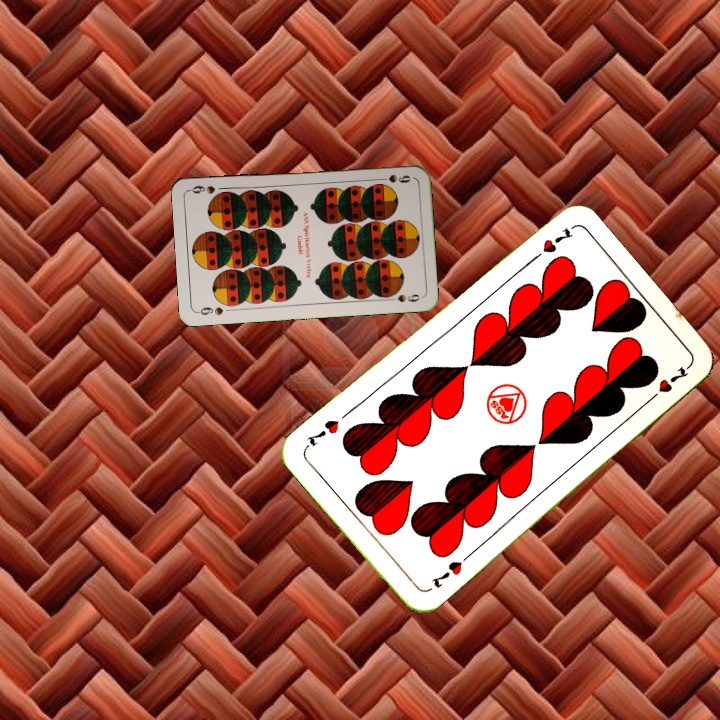H7: (525, 224, 575, 266), (427, 556, 465, 591)
S9: (374, 170, 413, 186), (194, 303, 226, 318)
